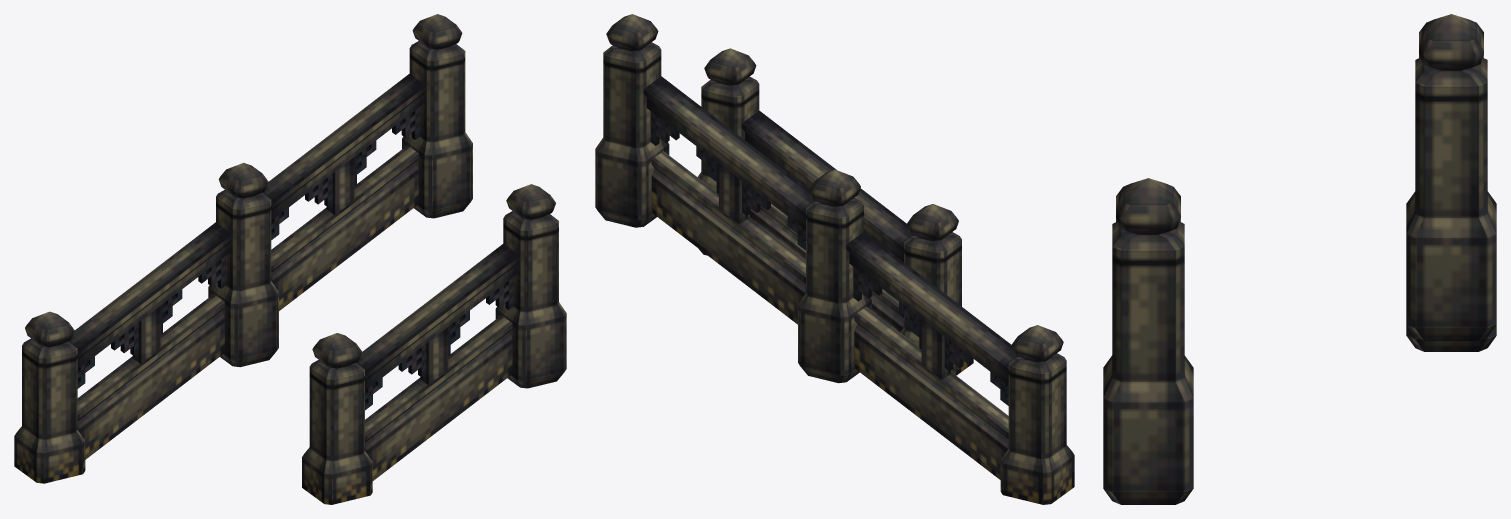
The model's file is EnvMdrMD_Desert_Exterior_StairsSide_A.FBX.
The picture shows the model from 3 angles, left to right: view 1: azimuth 30°, elevation 25°; view 2: azimuth 150°, elevation 25°; view 3: azimuth 270°, elevation 25°; orthographic projection. The views are drawn at different scales.
Parts seen in each view (by area): view 1: EnvMdrMD_Desert_Exterior_StairsSide_A, EnvMdrMD_Desert_Exterior_StairsSide_B; view 2: EnvMdrMD_Desert_Exterior_StairsSide_A, EnvMdrMD_Desert_Exterior_StairsSide_B; view 3: EnvMdrMD_Desert_Exterior_StairsSide_A, EnvMdrMD_Desert_Exterior_StairsSide_B.
Part boxes in pixels (x1=…): EnvMdrMD_Desert_Exterior_StairsSide_A: x1=14, y1=14, x2=472, y2=483; EnvMdrMD_Desert_Exterior_StairsSide_B: x1=302, y1=184, x2=566, y2=504; EnvMdrMD_Desert_Exterior_StairsSide_A: x1=595, y1=14, x2=1074, y2=504; EnvMdrMD_Desert_Exterior_StairsSide_B: x1=698, y1=48, x2=969, y2=375; EnvMdrMD_Desert_Exterior_StairsSide_A: x1=1406, y1=14, x2=1496, y2=351; EnvMdrMD_Desert_Exterior_StairsSide_B: x1=1103, y1=178, x2=1193, y2=504.
Bounding box in the file's own units: 450 × 355 × 217.
1 material, 1 textured.
